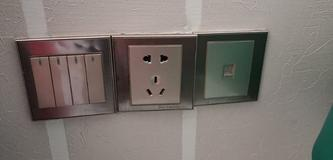switch: (29, 56, 55, 109), (48, 56, 72, 106), (67, 55, 89, 103), (84, 54, 105, 102)
